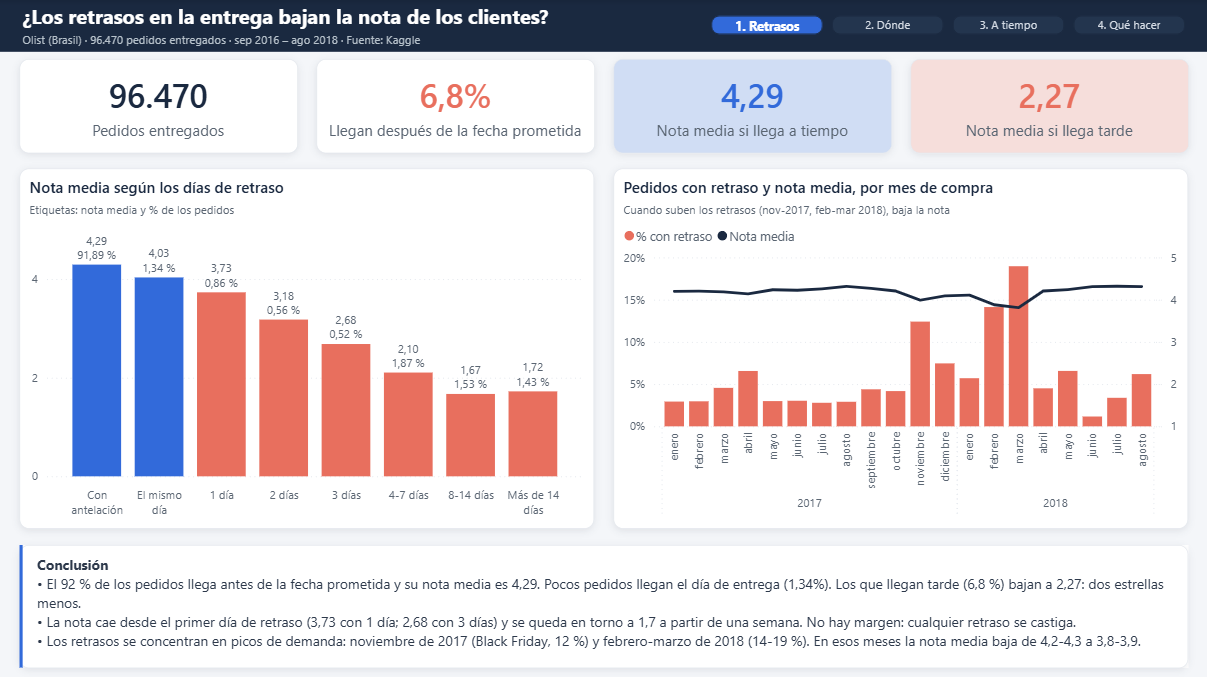

What the dashboard file says about the page in this screenshot:
{"tool":"powerbi","page":{"name":"1. Retrasos","canvas":[1280,720],"ordinal":0},"visuals":[{"type":"shape","box":[0,0,1280,56],"z":0},{"type":"card","fields":{"Values":["pedidos_limpios.Pedidos"]},"box":[20,64,295,100],"z":1000},{"type":"card","fields":{"Values":["pedidos_limpios.% con retraso"]},"box":[335,64,295,100],"z":2000},{"type":"card","fields":{"Values":["pedidos_limpios.Nota a tiempo"]},"box":[650,64,295,100],"z":3000},{"type":"card","fields":{"Values":["pedidos_limpios.Nota con retraso"]},"box":[965,64,295,100],"z":4000},{"type":"clusteredColumnChart","title":"Nota media según los días de retraso","fields":{"Category":["pedidos_limpios.tramo_retraso"],"Y":["pedidos_limpios.Nota media"]},"box":[20.7,179.7,609.2,381.7],"z":5000},{"type":"lineClusteredColumnComboChart","title":"Pedidos con retraso y nota media, por mes de compra","fields":{"Category":["pedidos_limpios.order_purchase_timestamp.Variation.Jerarquía de fechas.Año","pedidos_limpios.order_purchase_timestamp.Variation.Jerarquía de fechas.Mes"],"Y":["pedidos_limpios.% con retraso"],"Y2":["pedidos_limpios.Nota media"]},"box":[650.6,179.7,609.2,381.7],"z":6000},{"type":"textbox","box":[20.7,578.9,1239.1,130.4],"z":7000,"group":"g1"},{"type":"shape","box":[20,578.3,3.3,130],"z":7500,"group":"g1"},{"type":"textbox","box":[24,3,700,32],"z":90000},{"type":"pageNavigator","box":[745,10,525,36],"z":90000},{"type":"textbox","box":[24,33,700,20],"z":90000},{"type":"group","id":"g1","title":"Group 1","box":[20,578.3,1239.8,131.1],"z":90001}]}

Visuals, with their boxes in screenshot pixels (x1, y1, x2, y2), scaled from the page's 1280x720 canvas onto the 1207x677 screenshot:
shape: [0,0,1206,53]
card - pedidos_limpios.Pedidos: [19,60,297,154]
card - pedidos_limpios.% con retraso: [316,60,594,154]
card - pedidos_limpios.Nota a tiempo: [613,60,891,154]
card - pedidos_limpios.Nota con retraso: [910,60,1188,154]
"Nota media según los días de retraso" clusteredColumnChart: [20,169,594,528]
"Pedidos con retraso y nota media, por mes de compra" lineClusteredColumnComboChart: [613,169,1188,528]
textbox: [20,544,1188,667]
shape: [19,544,22,666]
textbox: [23,3,683,33]
pageNavigator: [703,9,1198,43]
textbox: [23,31,683,50]
"Group 1" group: [19,544,1188,667]
